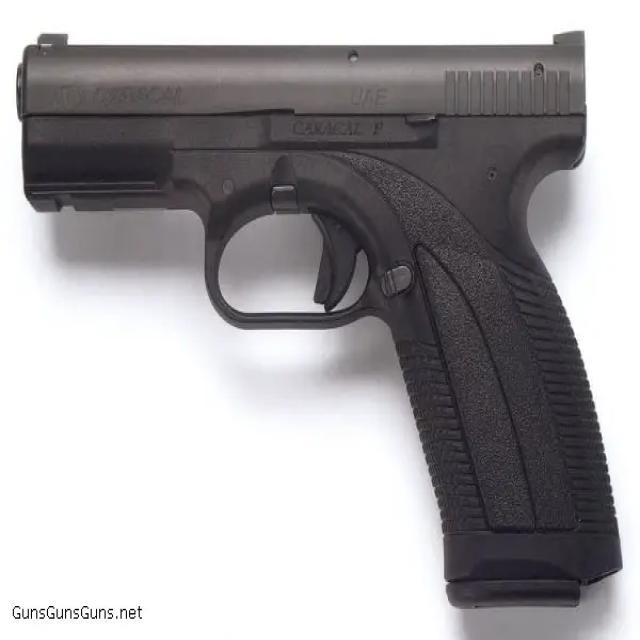Gun: (26, 29, 628, 612)
